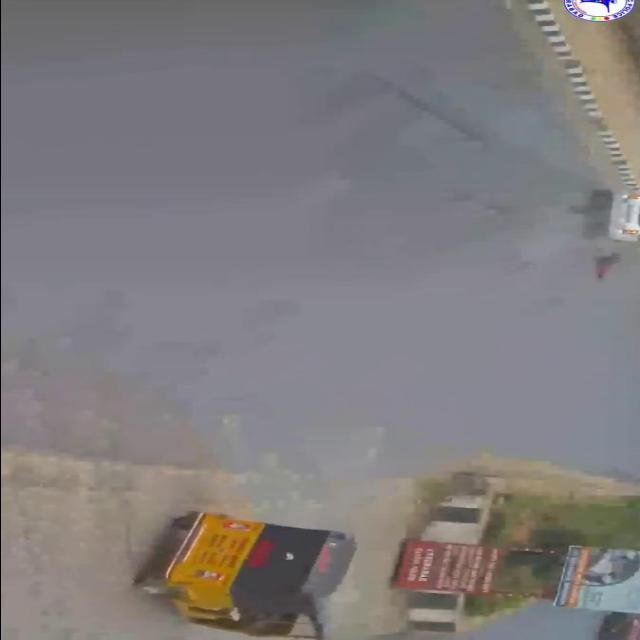accident: (561, 184, 640, 290)
